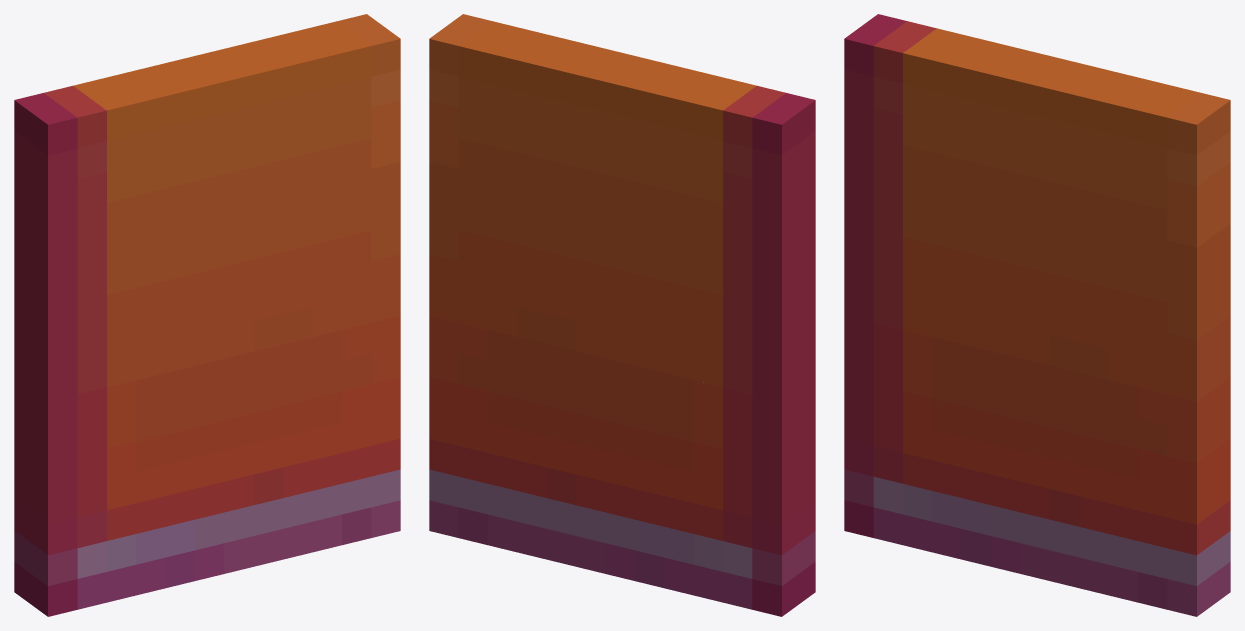
File: orange-book.glb
3 renders of one model, left to right at view 1: azimuth 30°, elevation 25°; view 2: azimuth 150°, elevation 25°; view 3: azimuth 330°, elevation 25°, orthographic.
Visible parts, largest first — view 1: prop; view 2: prop; view 3: prop.
Part boxes in pixels (<box>): prop: <box>14,14,400,616</box>; prop: <box>429,14,815,616</box>; prop: <box>844,14,1230,616</box>.
Size of the model in its own units: 12 by 16 by 2.
